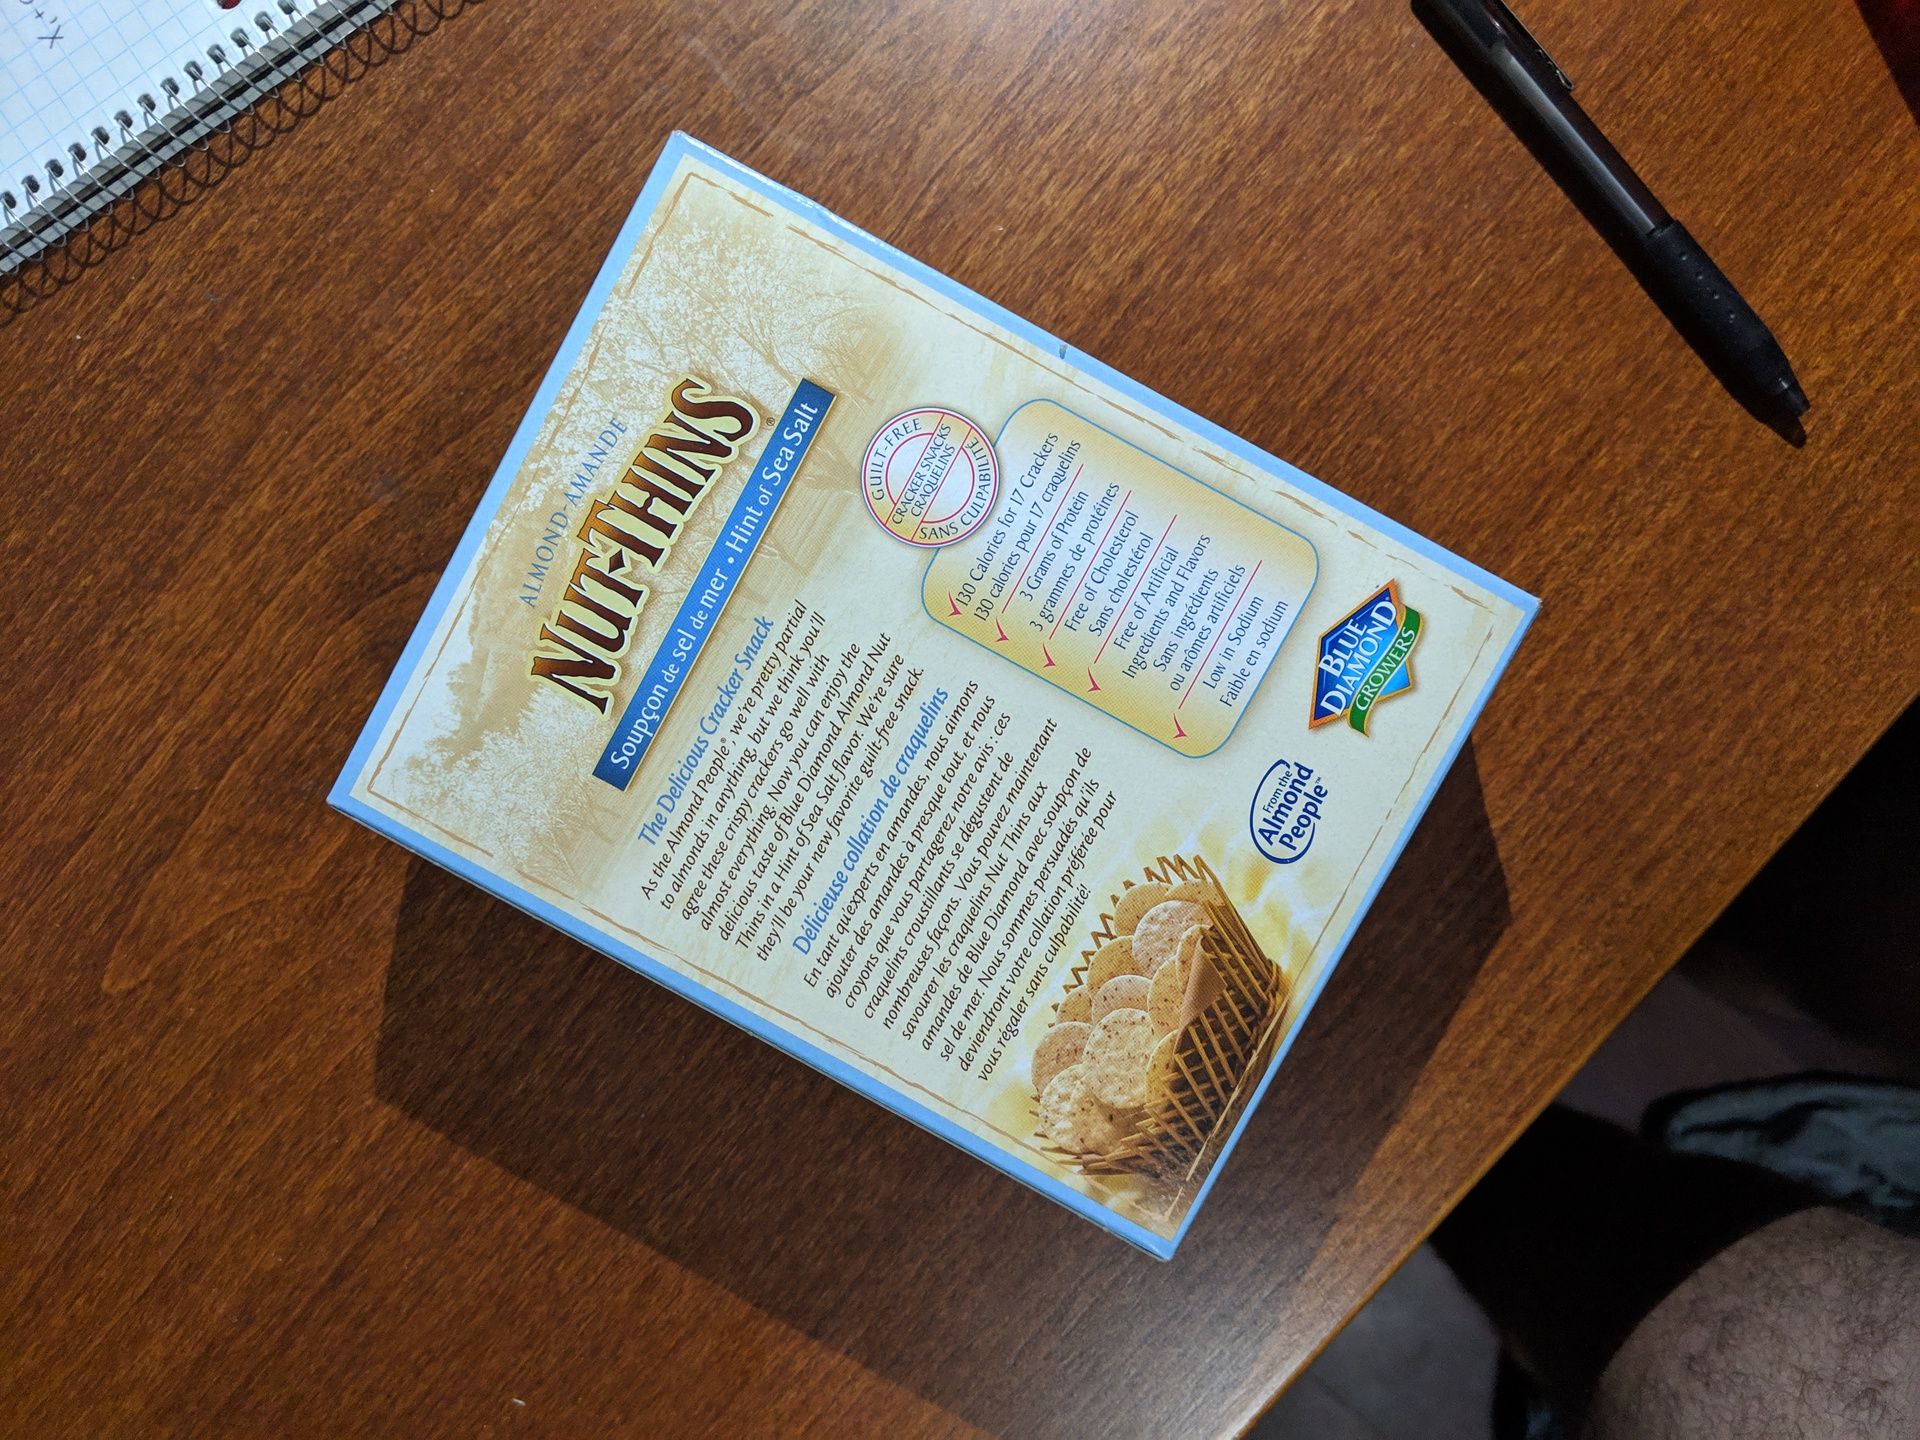blue_diamond_nut_thins_almond_seasalt: (426, 277, 1407, 1153)
